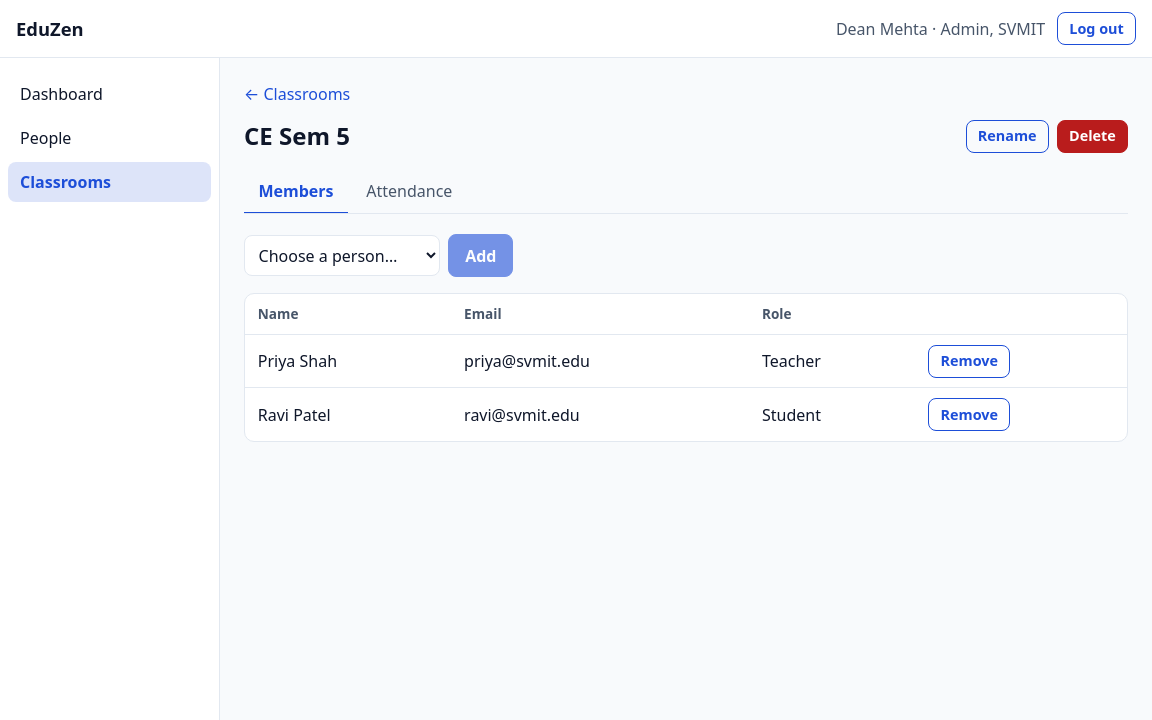
it: group detail › admins delete a group only after confirming, then return to the list
The width and height of the screenshot is (1152, 720).
Click the button "Delete". click: (1092, 136)
box: [1057, 120, 1128, 153]
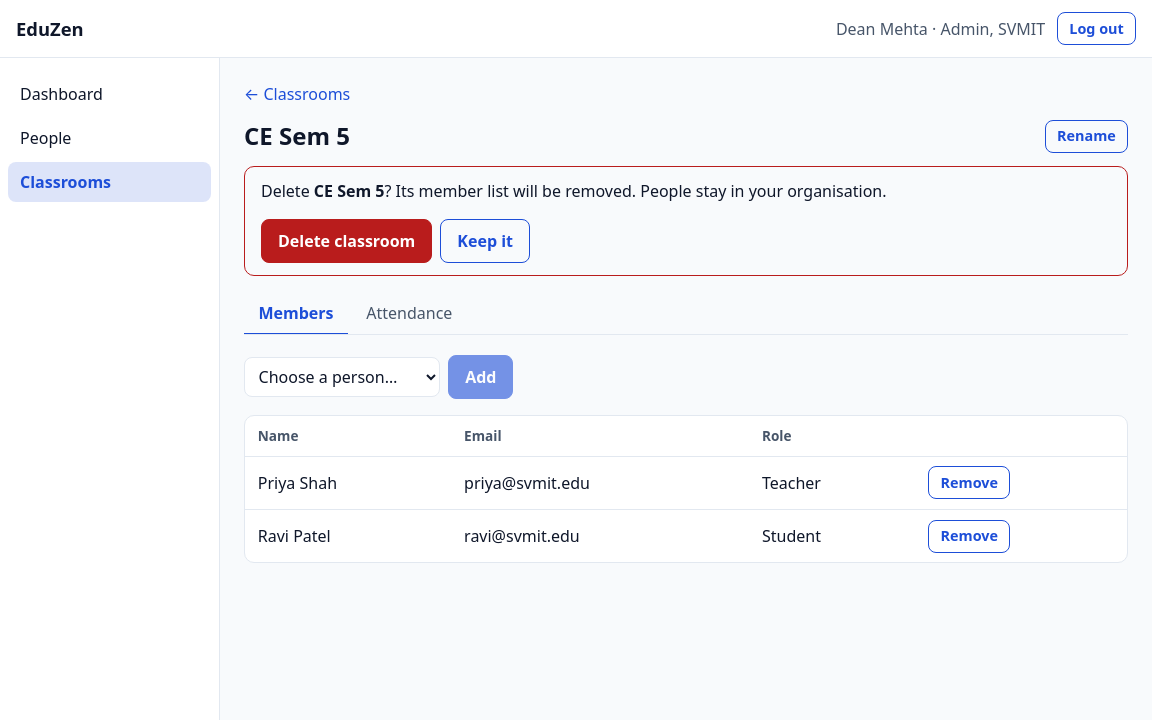
Click the button "Delete classroom". click: (347, 241)
box: [261, 219, 432, 263]
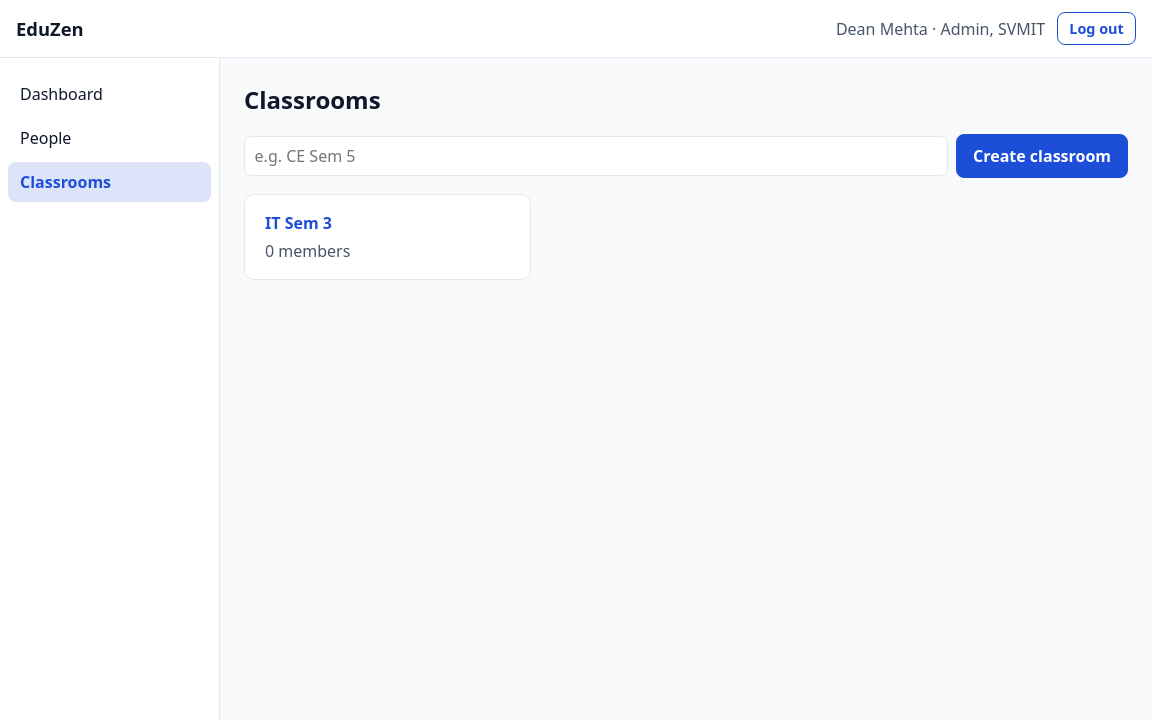
Expected: the link "IT Sem 3" is shown, [265, 212, 332, 234]
